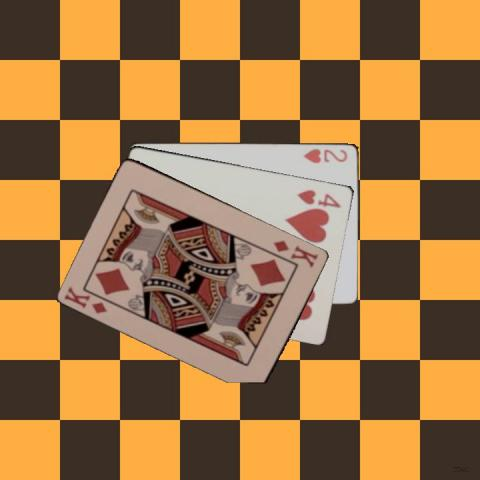2h: (300, 145, 348, 164)
4h: (294, 186, 343, 209)
Kd: (61, 284, 118, 316), (271, 237, 320, 269)
